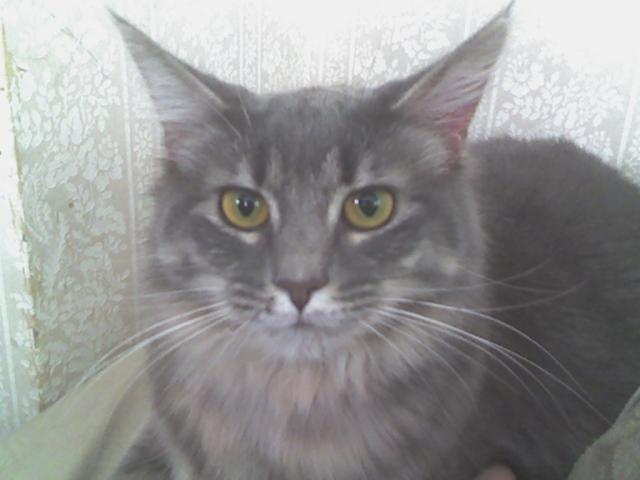Cat: (43, 0, 639, 479)
